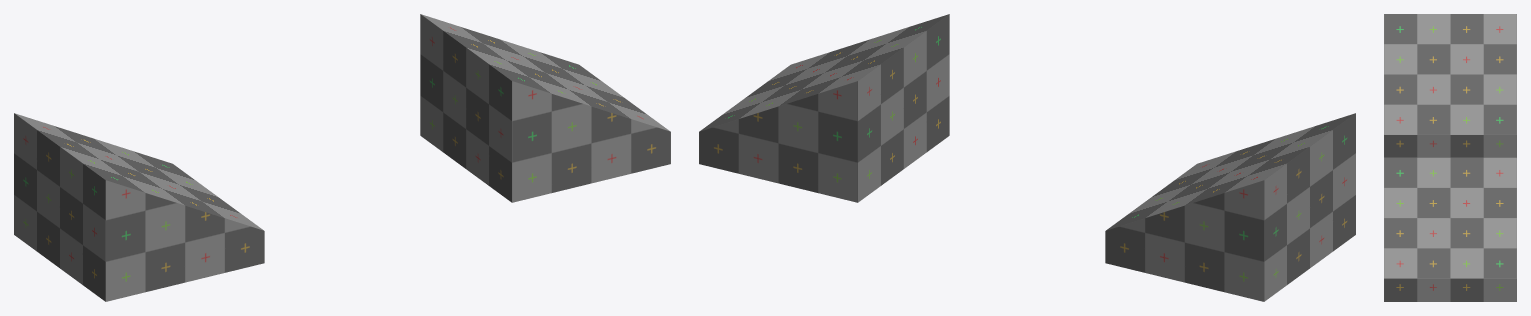
The model's file is ramp.obj.
The picture shows the model from 3 angles, left to right: view 1: azimuth 30°, elevation 25°; view 2: azimuth 150°, elevation 25°; view 3: azimuth 270°, elevation 25°; orthographic projection. The views are drawn at different scales.
Parts seen in each view (by area): view 1: Cube_Cube.002; view 2: Cube_Cube.002; view 3: Cube_Cube.002.
Part boxes in pixels (bbox=[...]): Cube_Cube.002: bbox=[14, 14, 670, 301]; Cube_Cube.002: bbox=[699, 14, 1355, 301]; Cube_Cube.002: bbox=[1384, 14, 1516, 301].
Bounding box in the file's own units: 13.31 × 2.74 × 3.74.
Materials: 1 (1 with a texture image).
